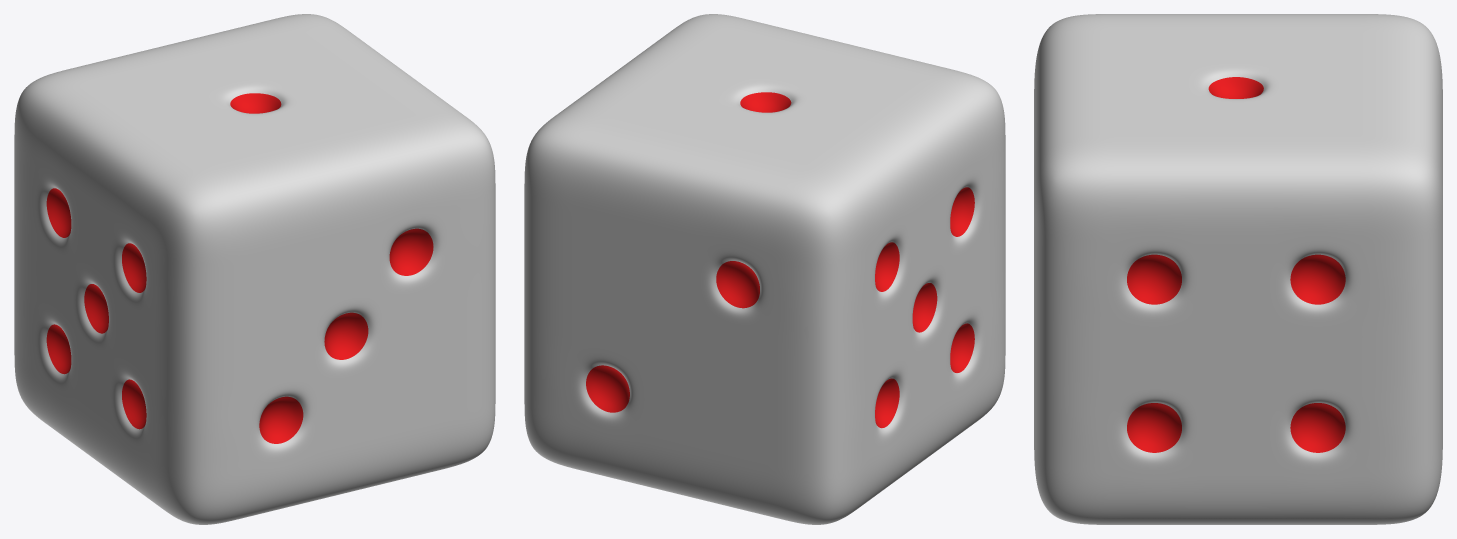
File: diceapplied.glb
3 renders of one model, left to right at view 1: azimuth 30°, elevation 25°; view 2: azimuth 150°, elevation 25°; view 3: azimuth 270°, elevation 25°, orthographic. The views are drawn at different scales.
Parts seen in each view (by area): view 1: Cube; view 2: Cube; view 3: Cube.
Boxes of the visible parts, left/top/right/bottom form: Cube: left=14, top=14, right=495, bottom=524; Cube: left=524, top=14, right=1005, bottom=524; Cube: left=1034, top=14, right=1442, bottom=524.
Bounding box in the file's own units: 2 × 2 × 2.
